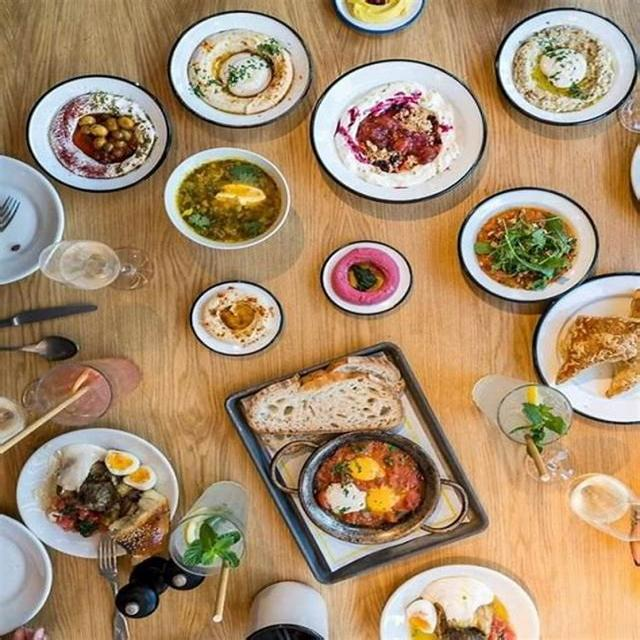hummus: (318, 75, 475, 197), (170, 18, 307, 116), (508, 16, 623, 115)
